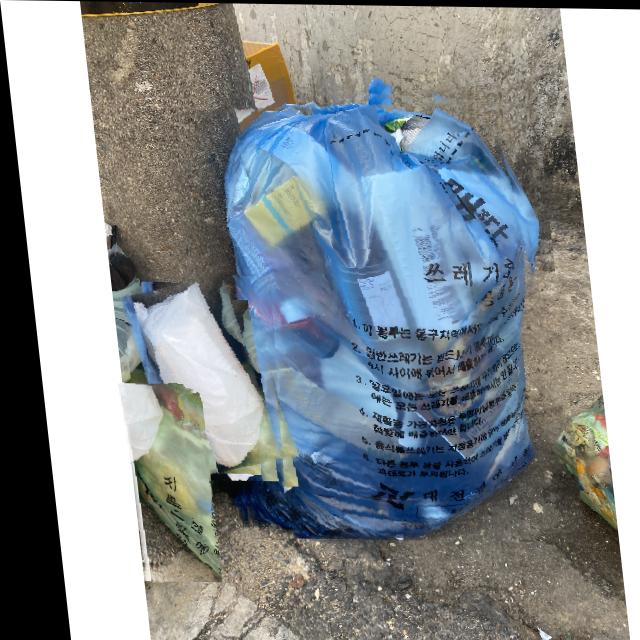general_trashbag: (192, 97, 571, 539)
other_trashbag: (116, 274, 275, 480), (109, 385, 209, 582)
